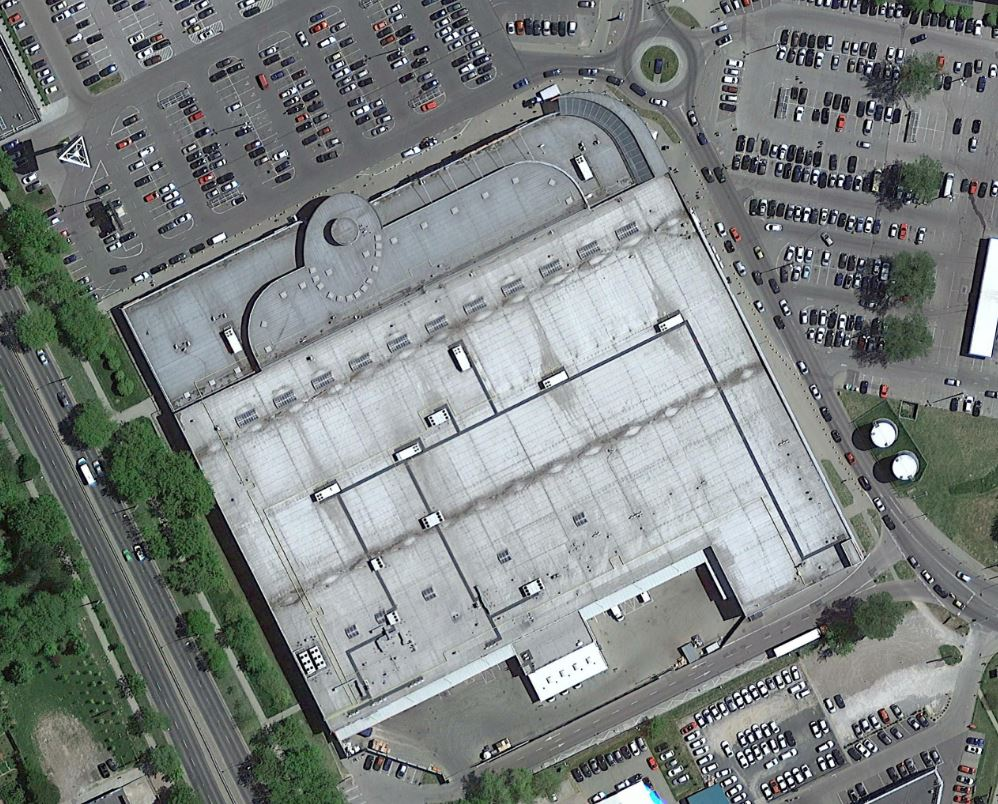shopping_center: (105, 71, 871, 763)
